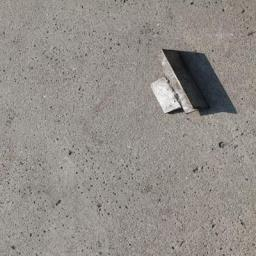FOD: (142, 45, 217, 122)
